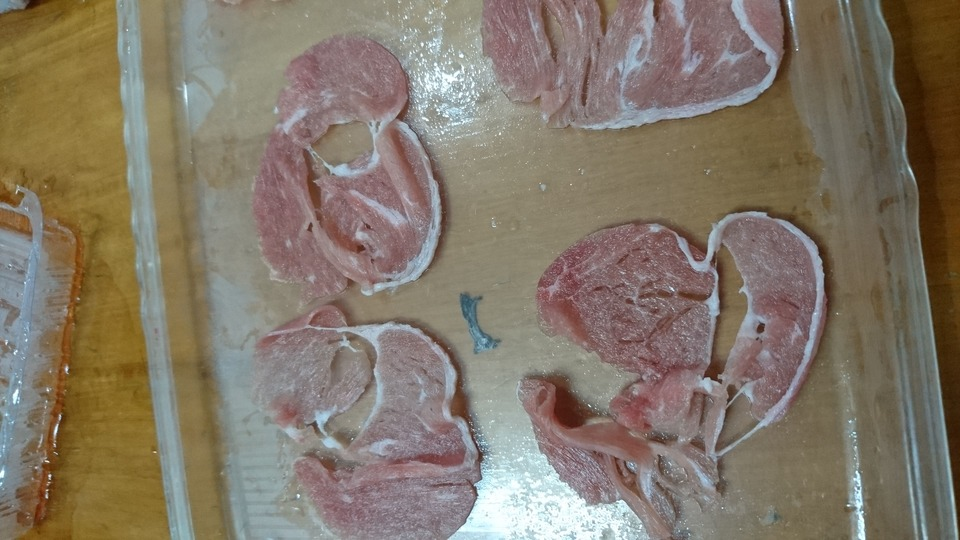restructured meat: (503, 221, 836, 523), (239, 26, 456, 287), (247, 306, 486, 539), (474, 2, 822, 126)
